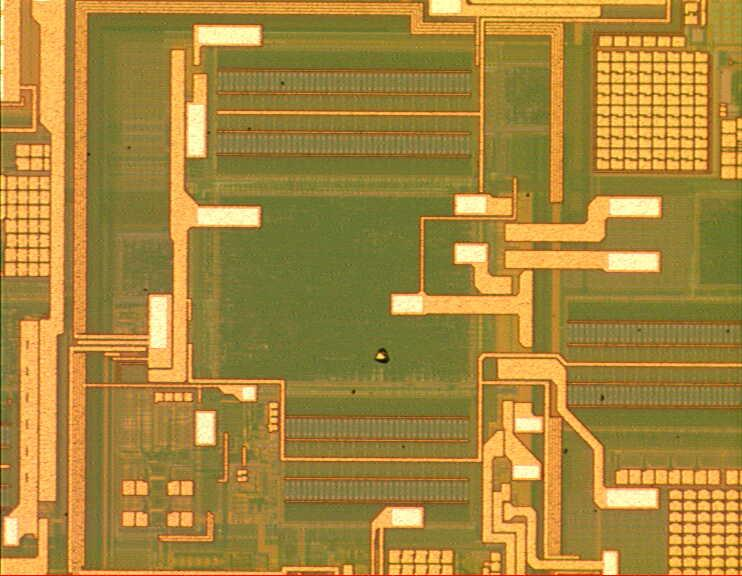BLOCK ETCH: (81, 75, 651, 518)
